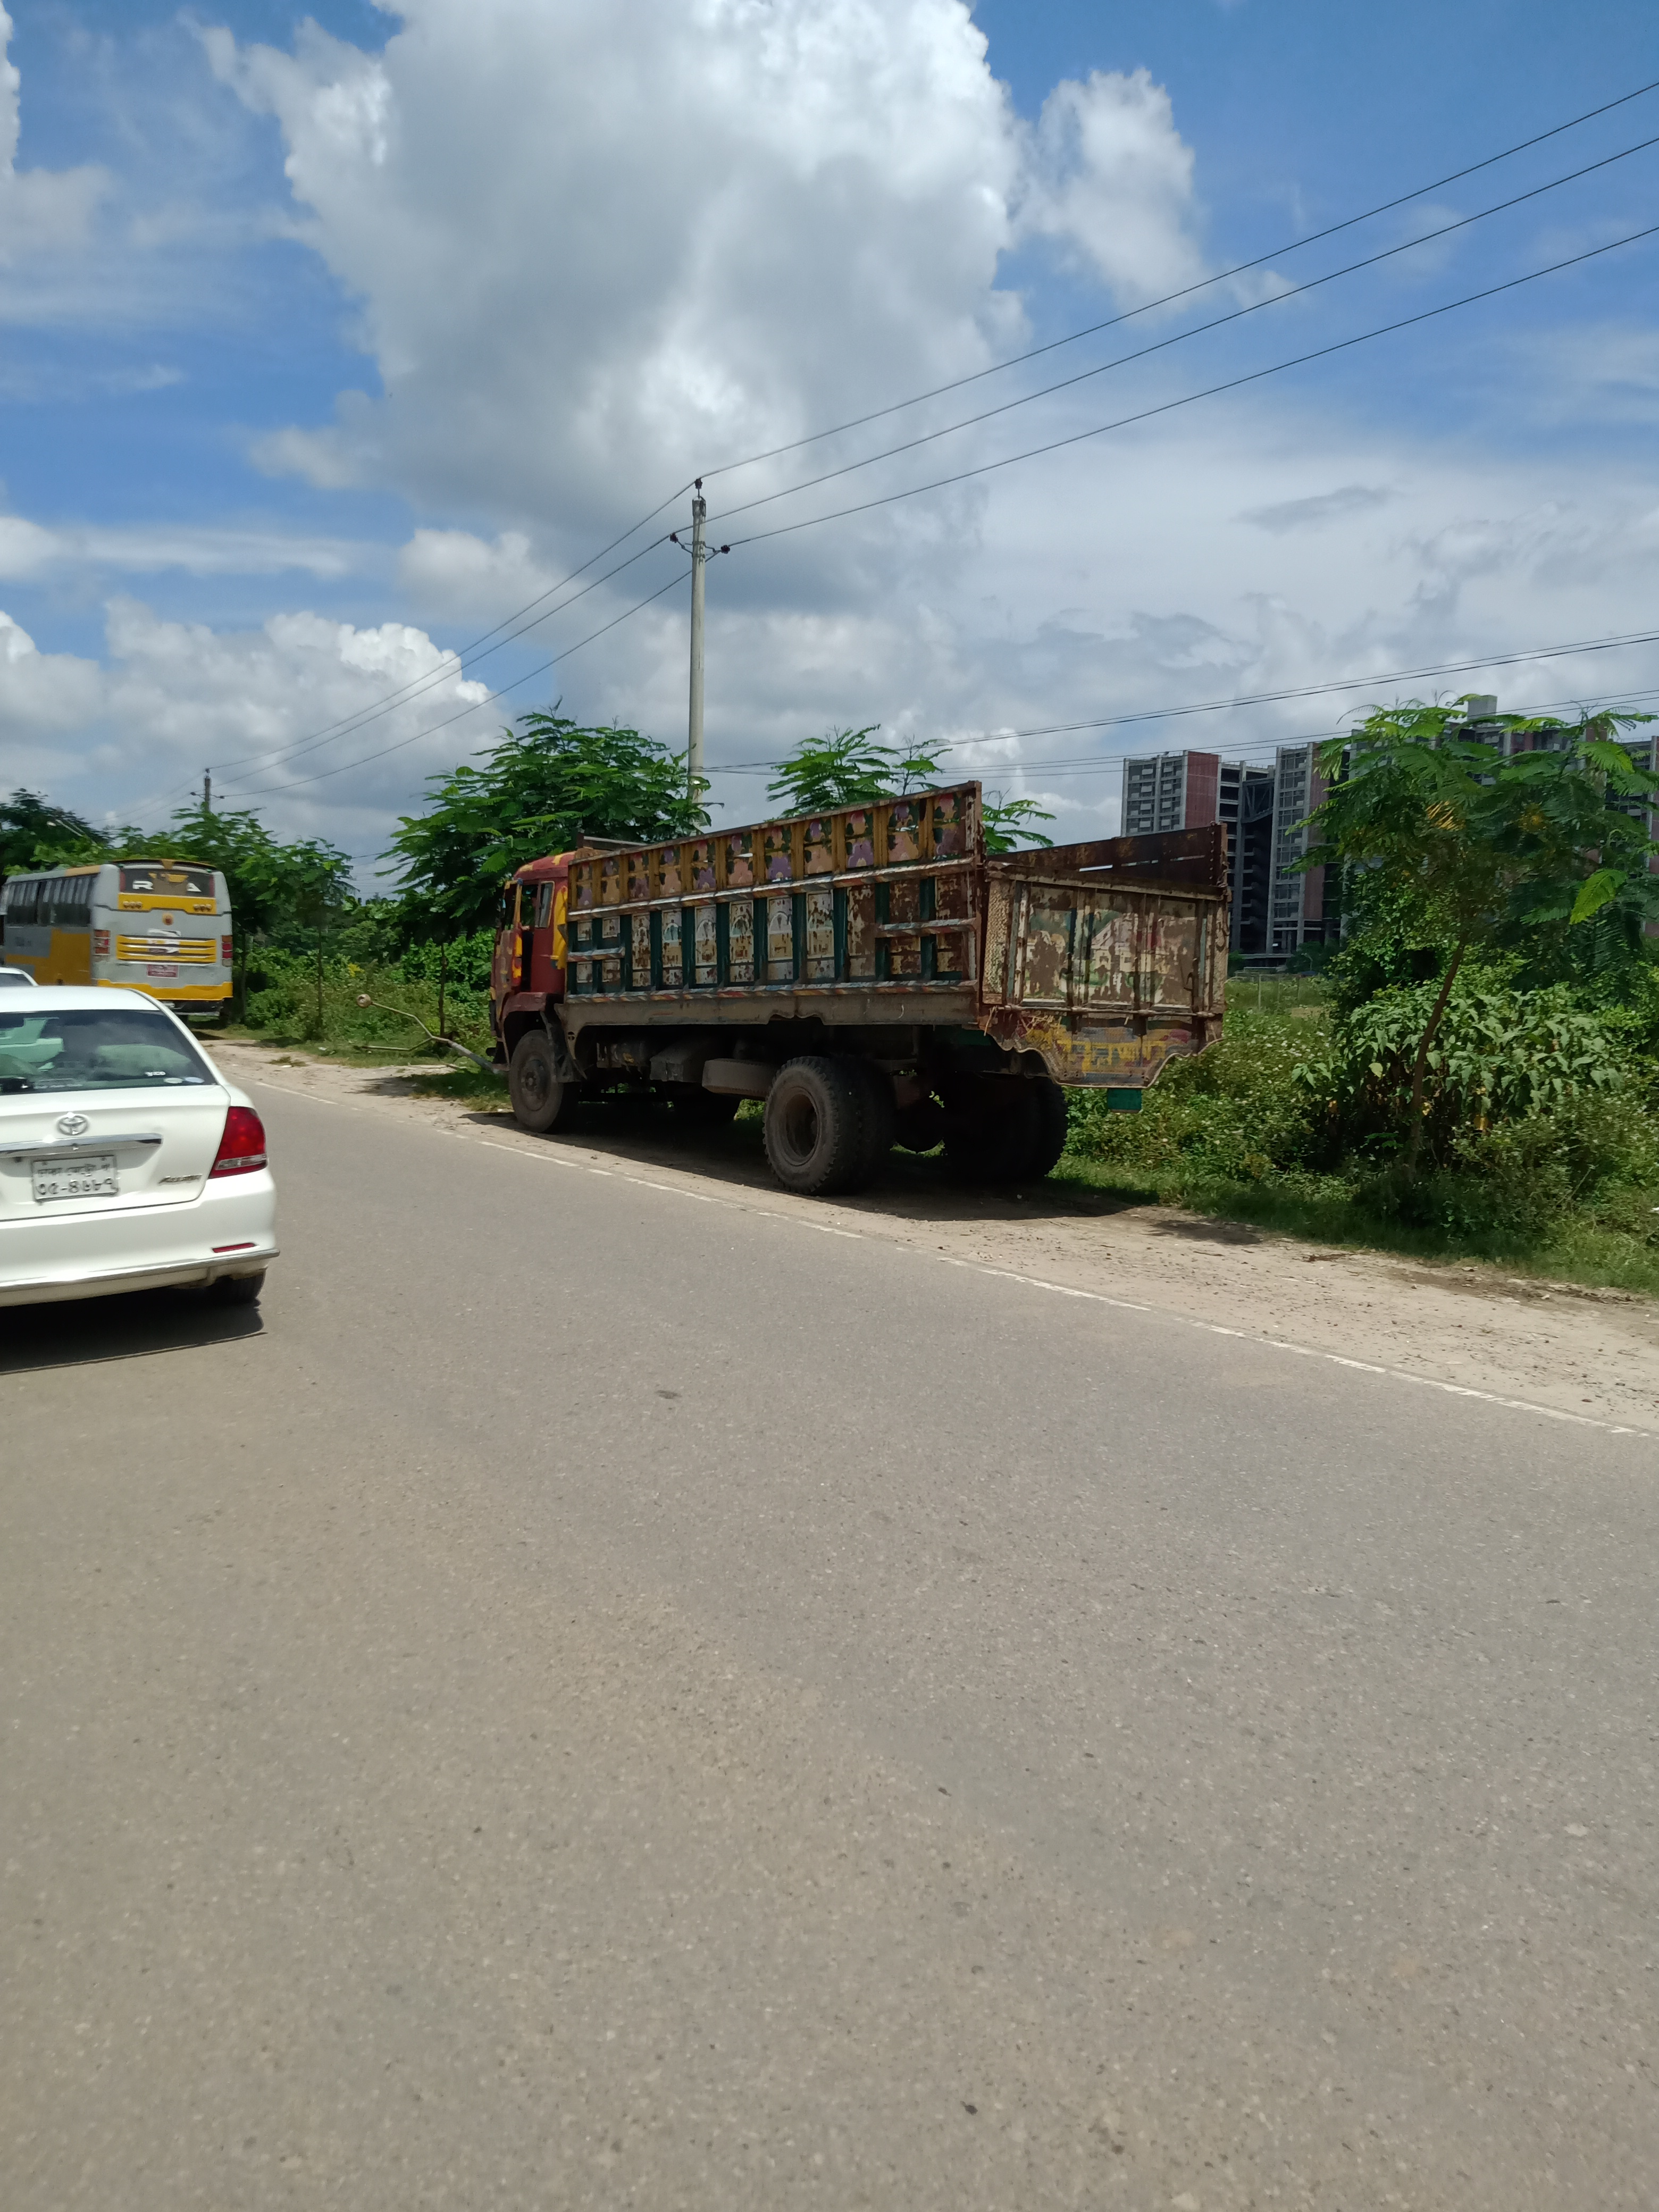bus: (3, 857, 230, 1019)
car: (0, 991, 268, 1325)
truck: (486, 786, 1237, 1183)
